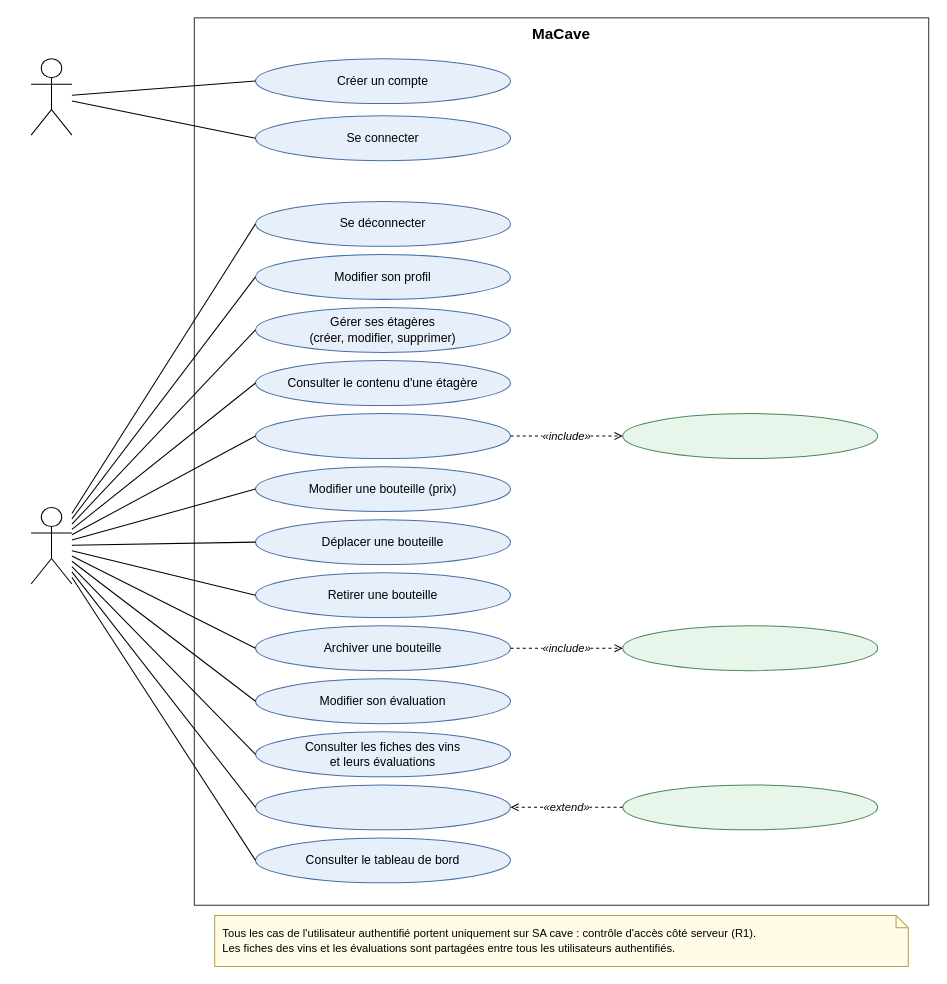
This 947x984 diagram has some shape labels left out. Here are the shapes that lost their labels. From the top down, the box of each, then its label:
(30, 58, 72, 135): Visiteur
(254, 413, 511, 458): Ajouter des bouteilles
(622, 413, 878, 458): Sélectionner ou créer une référence de vin
(30, 506, 72, 584): Utilisateur authentifié
(622, 625, 878, 671): Noter et commenter (évaluation 0 à 20)
(254, 784, 511, 830): Consulter son stock et son historique
(622, 784, 878, 830): Rechercher, filtrer, trier
